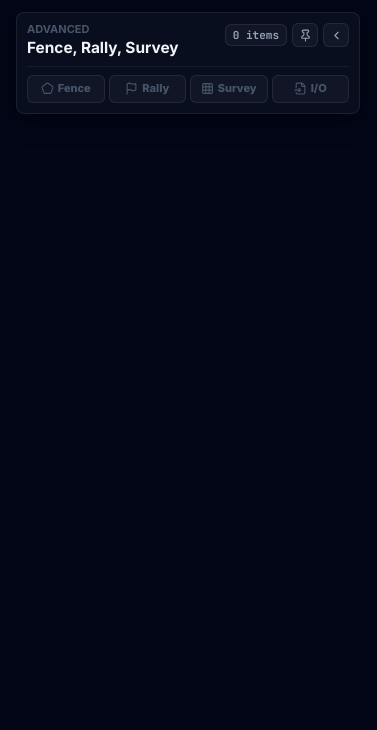
Test case: AdvancedMissionPanel › opens a Survey form from manual coordinates with current defaults
Step 1. Click the tab "Survey" → (229, 89), box [190,75,268,103]
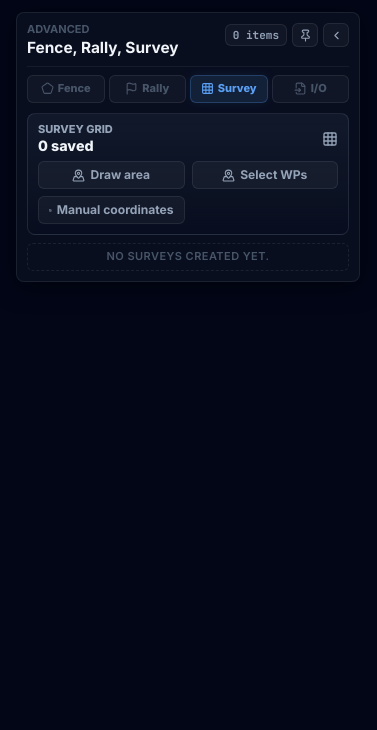
Step 2. Click the button "Manual coordinates" → (111, 210), box [38,196,184,224]
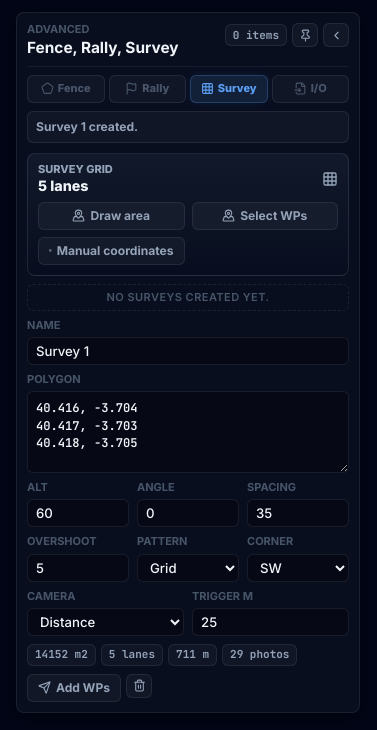
Expected: the text "Add WPs" is shown, [56,682,110,694]
